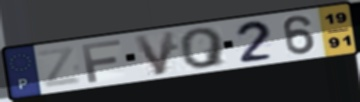2: (235, 18, 279, 67)
6: (282, 14, 318, 56)
F: (79, 37, 124, 84)
Q: (178, 25, 230, 70)
V: (131, 29, 178, 77)
Z: (34, 44, 85, 90)
